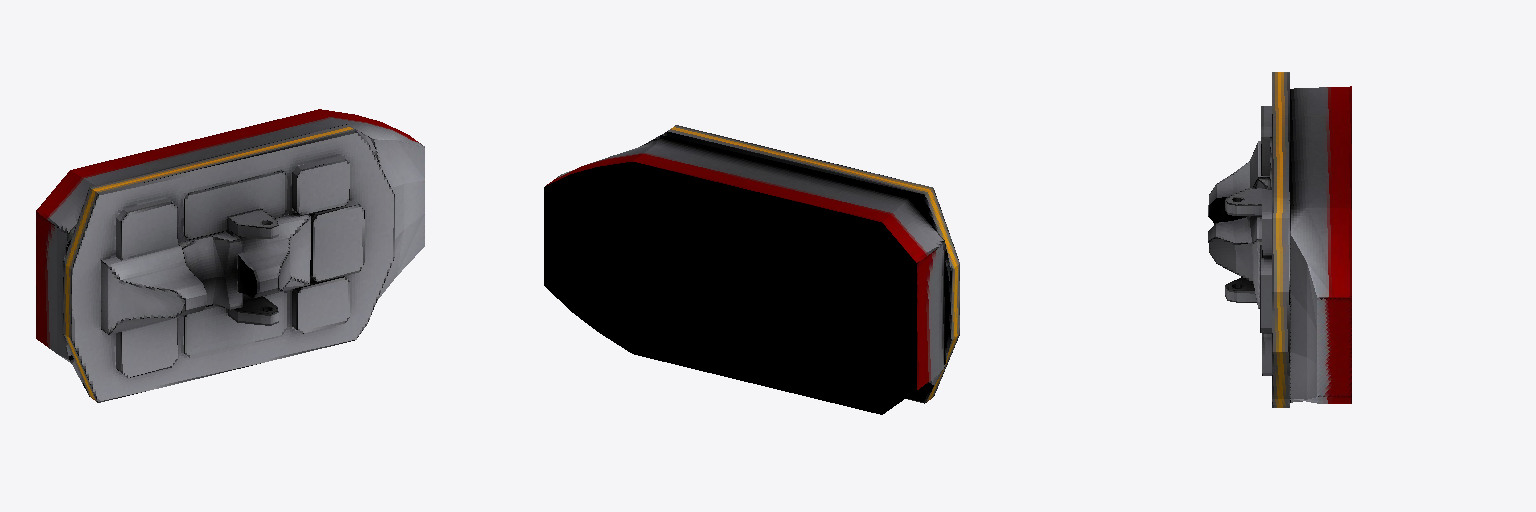
3 views of the same model, side by side, from view 1: azimuth 30°, elevation 25°; view 2: azimuth 150°, elevation 25°; view 3: azimuth 270°, elevation 25° (orthographic).
Parts seen in each view (by area): view 1: r_foot_r_footMesh; view 2: r_foot_r_footMesh; view 3: r_foot_r_footMesh.
Part boxes in pixels (bbox=[...]): r_foot_r_footMesh: bbox=[36, 109, 424, 402]; r_foot_r_footMesh: bbox=[544, 125, 959, 414]; r_foot_r_footMesh: bbox=[1208, 72, 1351, 407].
Size of the model in its own units: 0.2629 by 0.1398 by 0.0866.
1 materials, 1 textured.